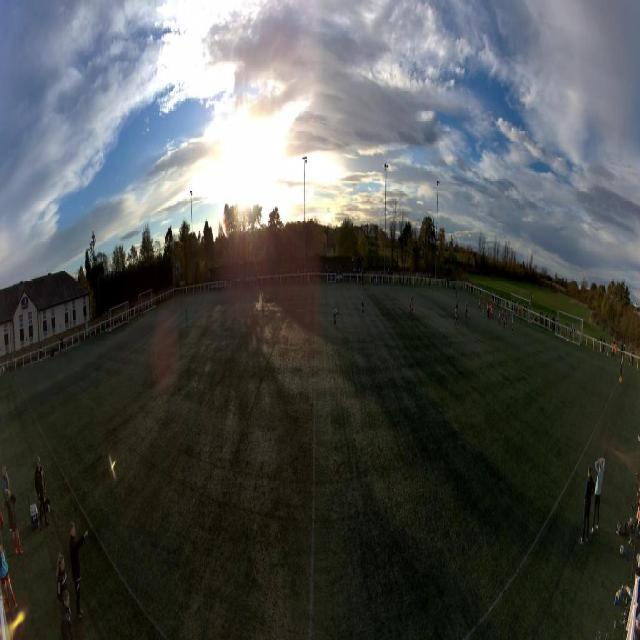ball: (469, 314, 470, 318)
player: (332, 308, 340, 328), (464, 300, 468, 320), (362, 293, 365, 317), (411, 296, 414, 320), (186, 305, 189, 327), (455, 308, 458, 329), (409, 296, 412, 317), (498, 307, 501, 325), (504, 309, 507, 327), (491, 302, 494, 320), (489, 297, 491, 317), (512, 314, 514, 333), (483, 299, 485, 316), (502, 310, 504, 327), (479, 296, 481, 312), (518, 304, 520, 320), (487, 308, 489, 324), (456, 295, 458, 309), (456, 289, 458, 301), (487, 300, 489, 310)
